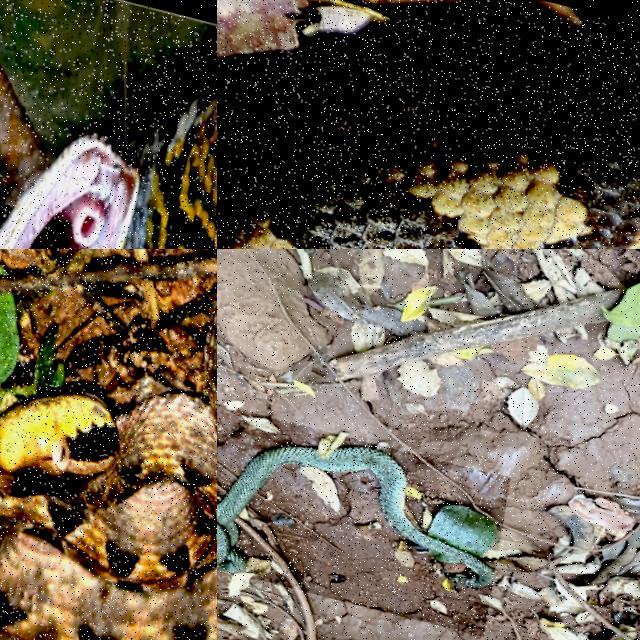Calloselasma rhodostoma: (0, 309, 216, 639)
Chrysopelea ornata: (217, 445, 494, 587)
Malayopython reticulatus: (0, 65, 138, 248)
Ovophis monticola: (217, 20, 639, 248)
snake: (217, 20, 639, 248), (0, 309, 216, 639), (217, 445, 494, 587), (0, 65, 138, 248)
